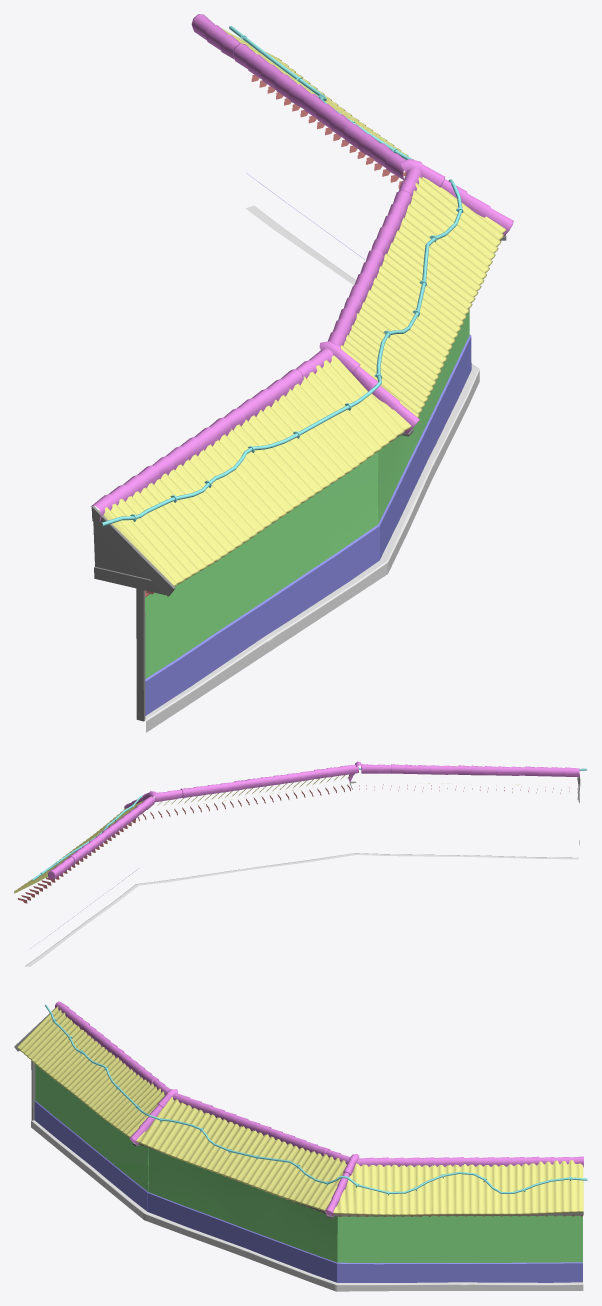
The model's file is SM_ENV_LKNVLD_Hokage_Gate_Wall.gltf.
3 renders of one model, top to bottom at view 1: azimuth 30°, elevation 25°; view 2: azimuth 150°, elevation 25°; view 3: azimuth 270°, elevation 25°, orthographic. The views are drawn at different scales.
Parts seen in each view (by area): view 1: SM_ENV_LKNVLD_Hokage_Gate_Wall; view 2: SM_ENV_LKNVLD_Hokage_Gate_Wall; view 3: SM_ENV_LKNVLD_Hokage_Gate_Wall.
Boxes of the visible parts, x1,y1,x2,y2 form: SM_ENV_LKNVLD_Hokage_Gate_Wall: [90, 14, 513, 732]; SM_ENV_LKNVLD_Hokage_Gate_Wall: [14, 761, 586, 966]; SM_ENV_LKNVLD_Hokage_Gate_Wall: [14, 1001, 587, 1291].
Size of the model in its own units: 18.99 by 6.07 by 25.6.
